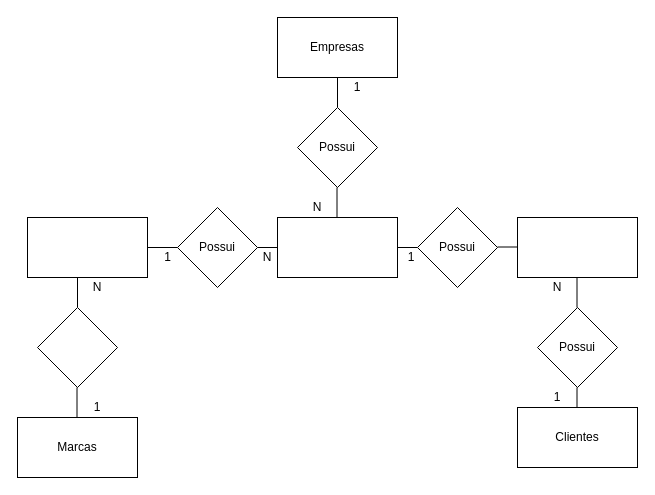
Image size: 655x495. Some labels were removed from this diagram. Each missing label, with the box of its shape:
Alugueis: (516, 216, 638, 278)
Modelos: (26, 216, 148, 278)
Tem: (36, 306, 118, 388)
Veiculos: (276, 216, 398, 278)
